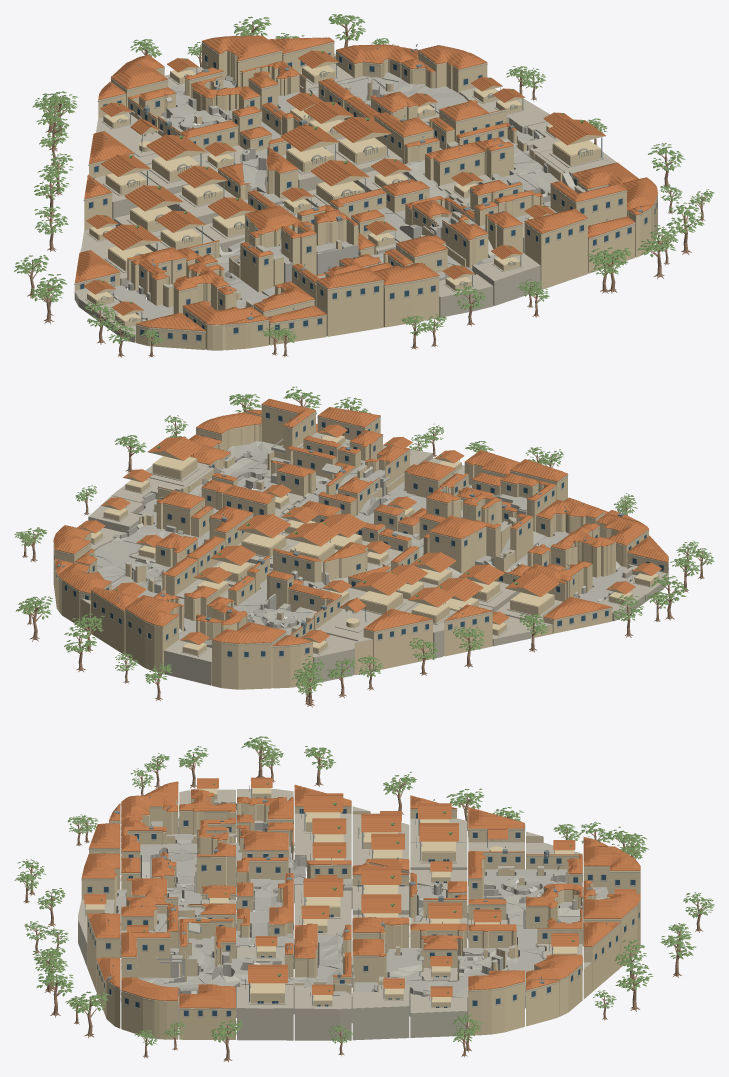
Rendered from inferno.glb.
The picture shows the model from 3 angles, top to bottom: view 1: azimuth 30°, elevation 25°; view 2: azimuth 150°, elevation 25°; view 3: azimuth 270°, elevation 25°; orthographic projection. The views are drawn at different scales.
Visible parts, largest first — view 1: ARENA_lower_wall, ARENA_lower_roof, ARENA_lower_stone, ARENA_lower_paving, ARENA_lower_leaf, ARENA_lower_bark, ARENA_lower_glass, ARENA_lower_metal; view 2: ARENA_lower_wall, ARENA_lower_roof, ARENA_lower_stone, ARENA_lower_paving, ARENA_lower_leaf, ARENA_lower_glass, ARENA_lower_bark, ARENA_lower_metal; view 3: ARENA_lower_roof, ARENA_lower_wall, ARENA_lower_stone, ARENA_lower_paving, ARENA_lower_leaf, ARENA_lower_bark, ARENA_lower_glass, ARENA_lower_metal.
Part boxes in pixels (left/top/right/bottom): ARENA_lower_wall: left=74, top=42, right=657, bottom=350; ARENA_lower_roof: left=75, top=35, right=657, bottom=331; ARENA_lower_stone: left=74, top=42, right=657, bottom=342; ARENA_lower_paving: left=109, top=72, right=575, bottom=320; ARENA_lower_leaf: left=14, top=14, right=714, bottom=343; ARENA_lower_bark: left=24, top=19, right=707, bottom=357; ARENA_lower_glass: left=80, top=53, right=657, bottom=340; ARENA_lower_metal: left=89, top=34, right=642, bottom=321; ARENA_lower_wall: left=53, top=405, right=668, bottom=689; ARENA_lower_roof: left=53, top=398, right=668, bottom=645; ARENA_lower_stone: left=53, top=405, right=668, bottom=685; ARENA_lower_paving: left=94, top=439, right=636, bottom=647; ARENA_lower_leaf: left=14, top=386, right=714, bottom=695; ARENA_lower_glass: left=54, top=412, right=663, bottom=656; ARENA_lower_bark: left=22, top=396, right=707, bottom=707; ARENA_lower_metal: left=57, top=410, right=649, bottom=642; ARENA_lower_roof: left=81, top=777, right=640, bottom=1008; ARENA_lower_wall: left=81, top=788, right=640, bottom=1039; ARENA_lower_stone: left=78, top=783, right=640, bottom=1040; ARENA_lower_paving: left=116, top=802, right=608, bottom=1023; ARENA_lower_leaf: left=14, top=736, right=714, bottom=1045; ARENA_lower_bark: left=23, top=740, right=704, bottom=1062; ARENA_lower_glass: left=87, top=797, right=639, bottom=1016; ARENA_lower_metal: left=85, top=785, right=615, bottom=1007.
Size of what is drawn, in the model's own units: 75.42 by 8.15 by 75.19.
